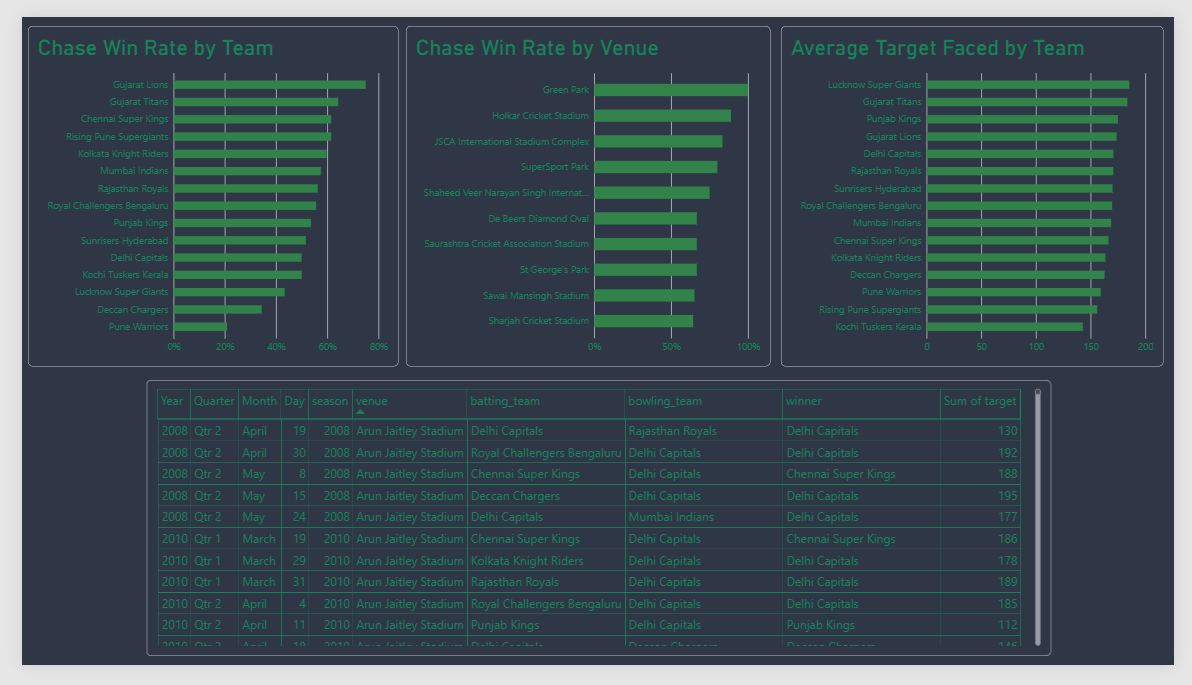

What the dashboard file says about the page in this screenshot:
{"tool":"powerbi","page":{"name":"Team & Venue Insights","canvas":[1920,1080],"ordinal":2},"visuals":[{"type":"clusteredBarChart","title":"Chase Win Rate by Team","fields":{"Category":["Match.batting_team"],"Y":["second_innings.Chase Win Rate"]},"box":[10,15,617.5,567.5],"z":0},{"type":"clusteredBarChart","title":"Average Target Faced by Team","fields":{"Category":["Match.batting_team"],"Y":["second_innings.Average First Innings Score"]},"box":[1265,15,637.5,567.5],"z":1000},{"type":"clusteredBarChart","title":"Chase Win Rate by Venue","fields":{"Category":["Match.venue"],"Y":["second_innings.Chase Win Rate"]},"box":[640,15,607.5,567.5],"z":2000},{"type":"tableEx","fields":{"Values":["Match.start_date.Variation.Date Hierarchy.Year","Match.start_date.Variation.Date Hierarchy.Quarter","Match.start_date.Variation.Date Hierarchy.Month","Match.start_date.Variation.Date Hierarchy.Day","Match.season","Match.venue","Match.batting_team","Match.bowling_team","Match.winner","Sum(Match.target)"]},"box":[207.5,605,1507.5,460],"z":3000}]}

Visuals, with their boxes in screenshot pixels (x1, y1, x2, y2), scaled from the page's 1920x1080 canvas onto the 1192x685 screenshot:
"Chase Win Rate by Team" clusteredBarChart: 6,10,390,369
"Average Target Faced by Team" clusteredBarChart: 785,10,1181,369
"Chase Win Rate by Venue" clusteredBarChart: 397,10,774,369
tableEx - Match.start_date.Variation.Date Hierarchy.Year x Match.start_date.Variation.Date Hierarchy.Quarter: 129,384,1065,675
